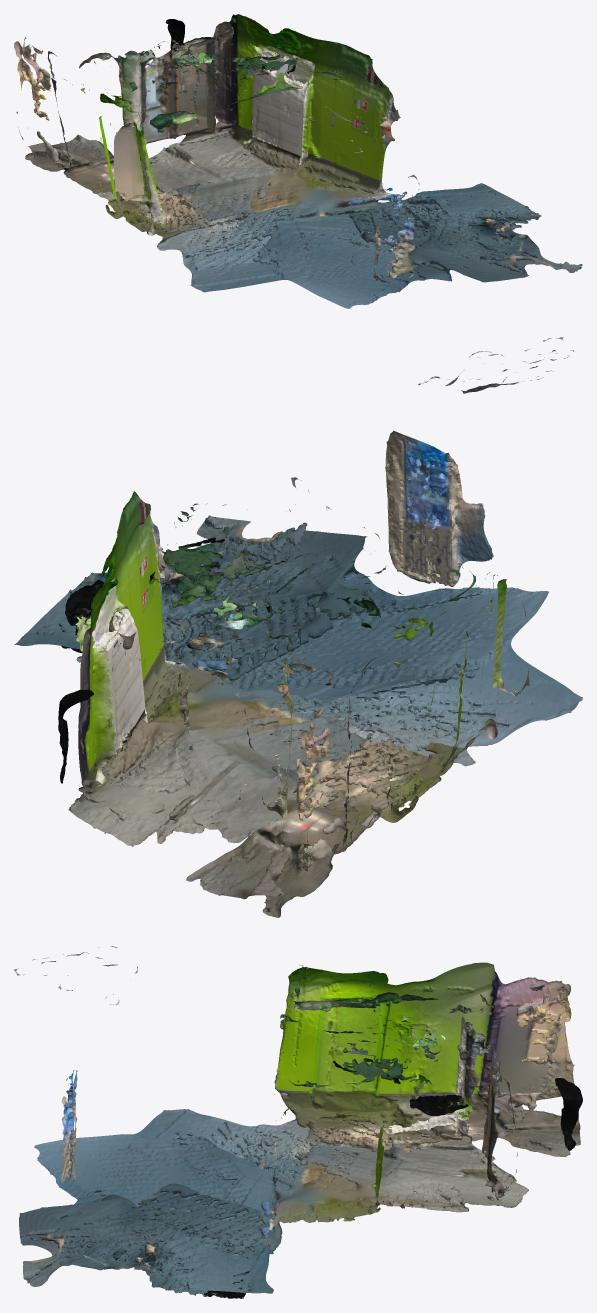
The picture shows the model from 3 angles, top to bottom: view 1: azimuth 30°, elevation 25°; view 2: azimuth 150°, elevation 25°; view 3: azimuth 270°, elevation 25°; orthographic projection. The views are drawn at different scales.
Bounding box in the file's own units: 8.69 × 4.61 × 10.94.
Materials: 1 (1 with a texture image).
